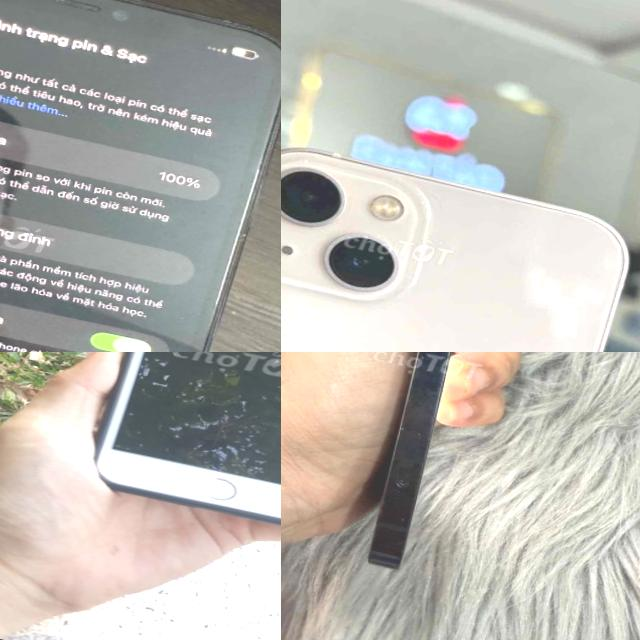gen_11: (0, 0, 281, 352)
gen_12_13: (281, 136, 640, 352), (342, 352, 545, 578)
gen_7_8: (94, 352, 281, 525)
